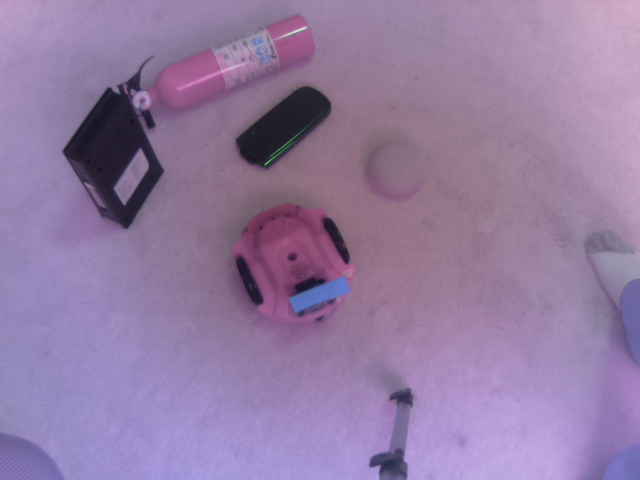board: (283, 274, 363, 315)
chassis: (229, 196, 362, 331)
